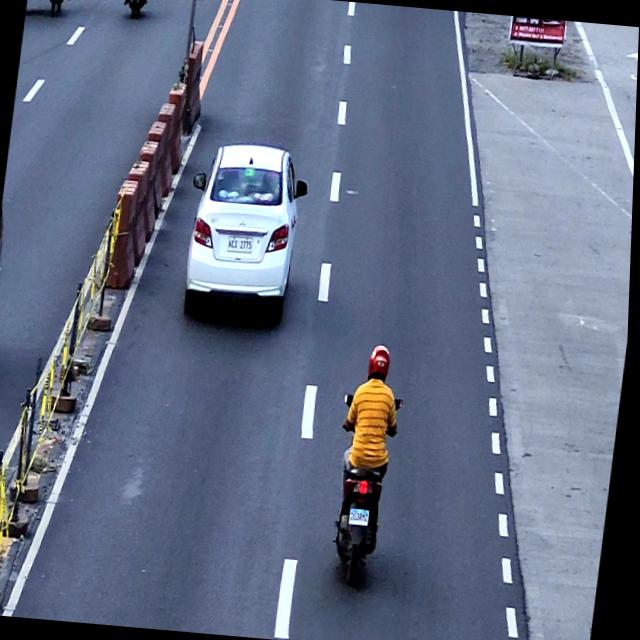Car: (178, 137, 316, 331)
License-Plate: (227, 234, 256, 253), (351, 509, 374, 527)
Motorcycle: (323, 389, 408, 590), (122, 0, 147, 20)
Tricycle: (24, 0, 73, 19)
